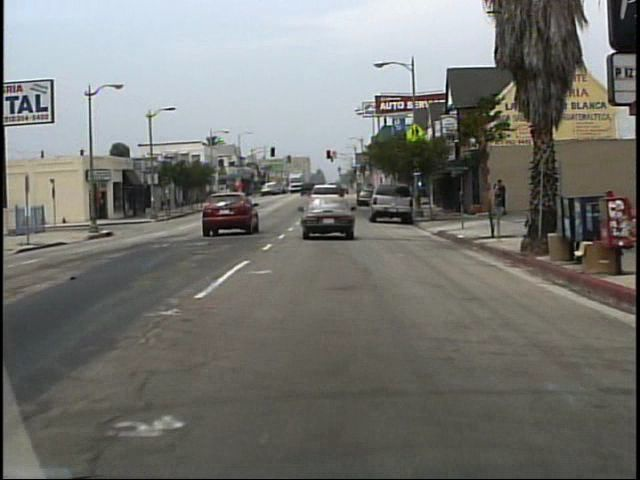person: (497, 178, 509, 216), (489, 183, 500, 216)
